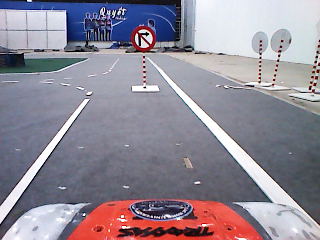ban: (130, 24, 157, 53)
